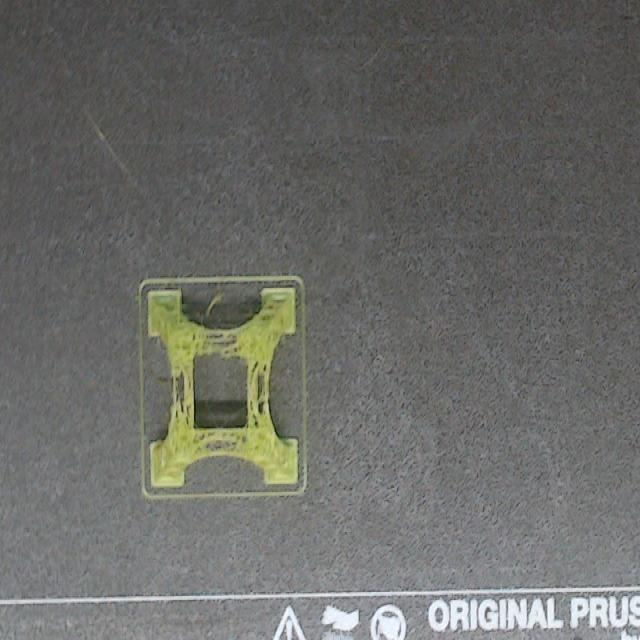mistake: (248, 363, 270, 431), (194, 429, 250, 453), (175, 373, 193, 424), (206, 293, 221, 317)
